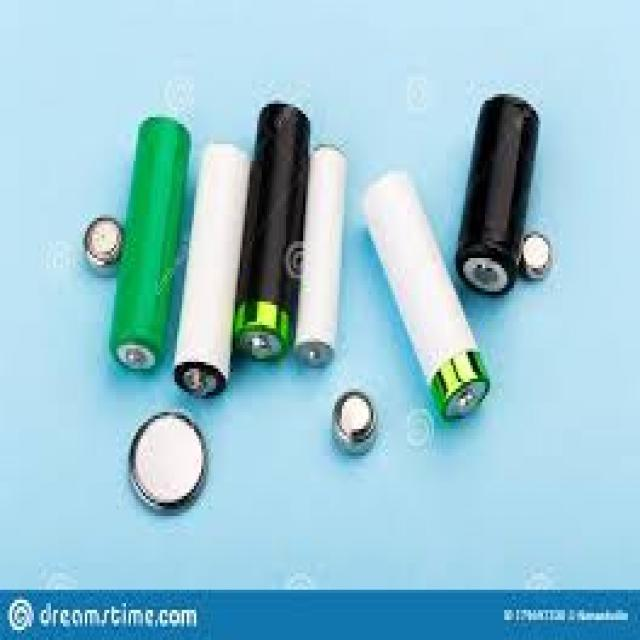battery: (363, 165, 496, 424), (230, 94, 310, 362), (171, 142, 251, 396), (114, 112, 190, 372), (456, 92, 542, 302)
